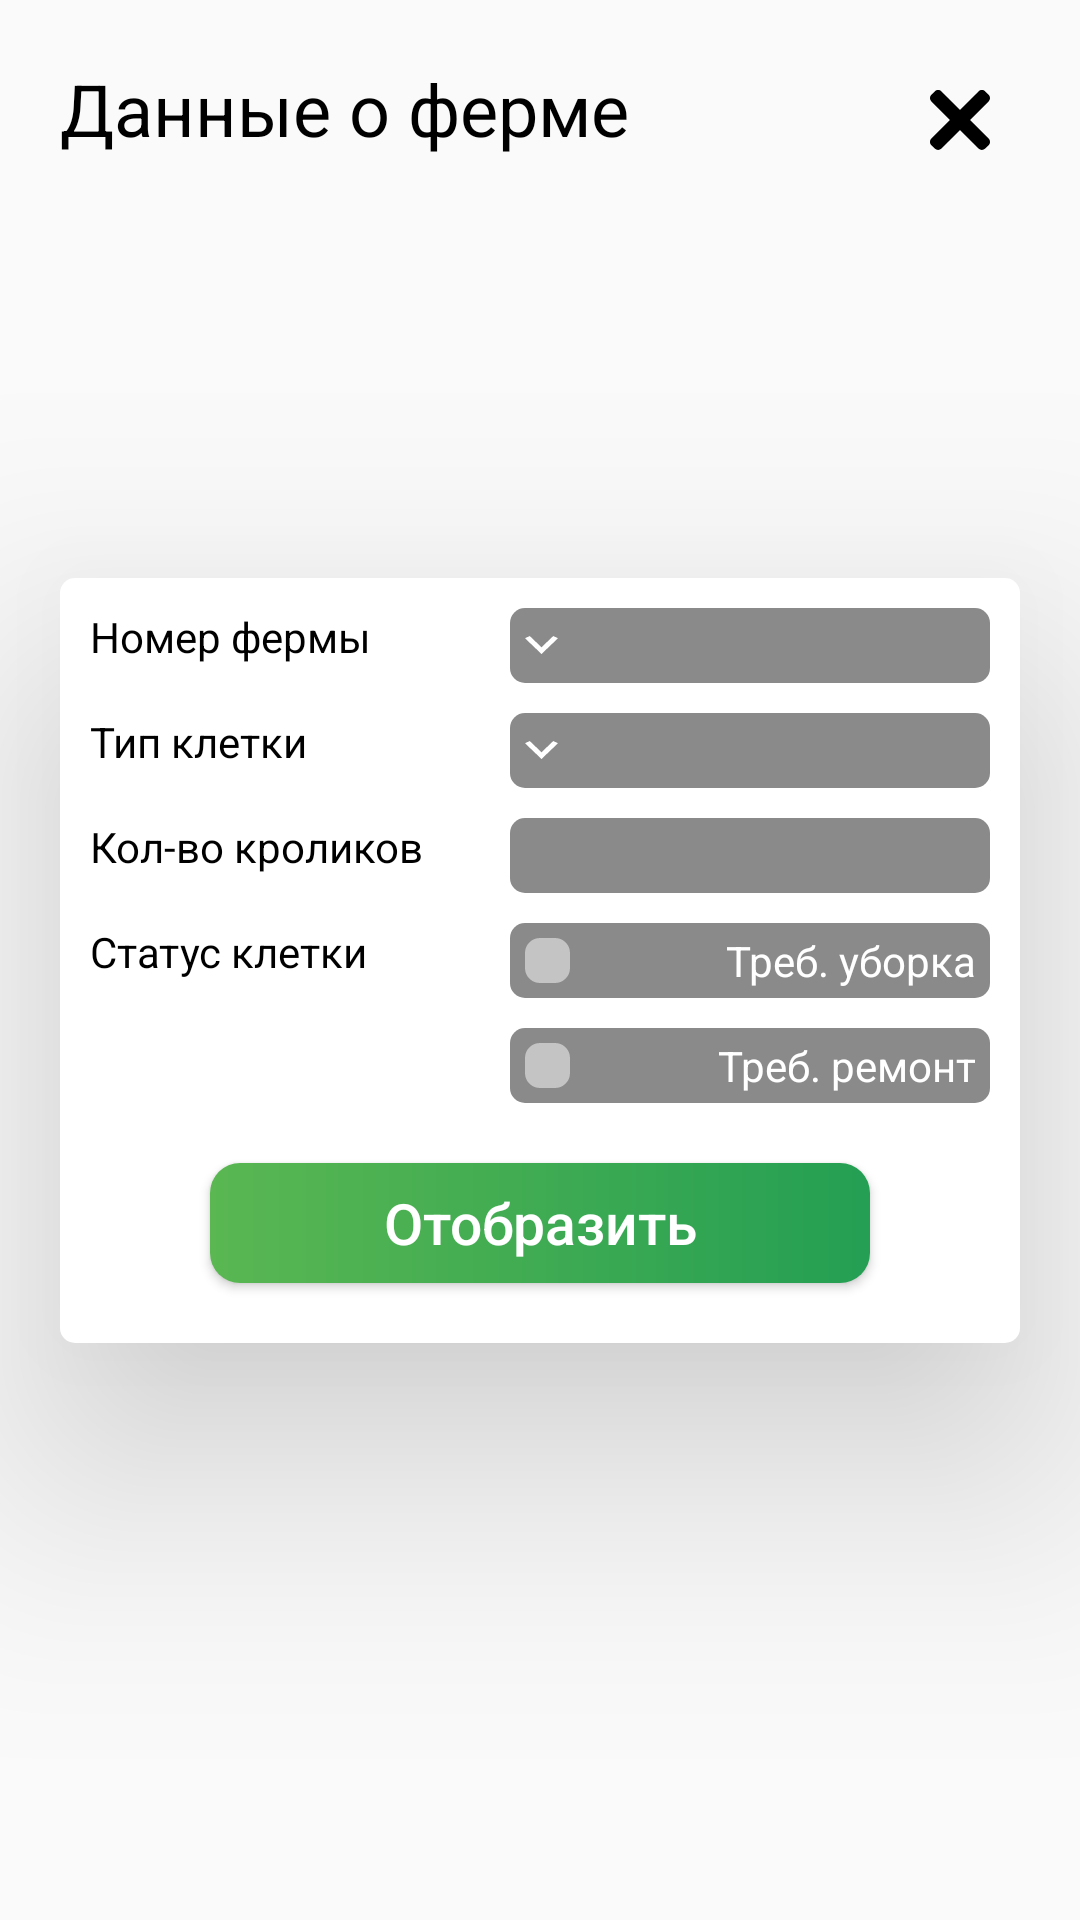

Icons on this 1080px×1920px Android screen, each with its box as (x1, y1, x2, y2):
close menu: (930, 90, 990, 150)
